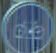bike lane: (1, 3, 51, 52)
